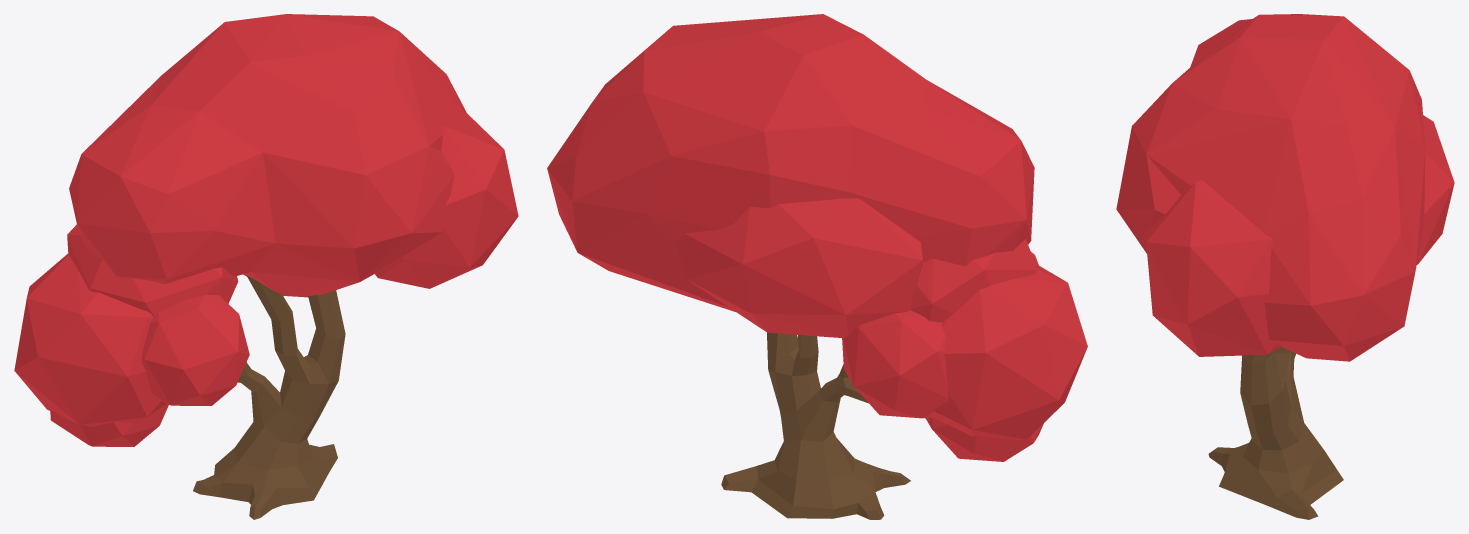
Rendered from tree-bonsai.glb.
The picture shows the model from 3 angles, left to right: view 1: azimuth 30°, elevation 25°; view 2: azimuth 150°, elevation 25°; view 3: azimuth 270°, elevation 25°; orthographic projection. The views are drawn at different scales.
Visible parts, largest first — view 1: tree-bonsai; view 2: tree-bonsai; view 3: tree-bonsai.
Boxes of the visible parts, box(x1,y1,x2,y2) form: tree-bonsai: box(14, 14, 518, 519); tree-bonsai: box(547, 14, 1087, 519); tree-bonsai: box(1116, 14, 1454, 519).
Size of the model in its own units: 7.93 by 7.19 by 4.81.
1 material, 1 textured.
